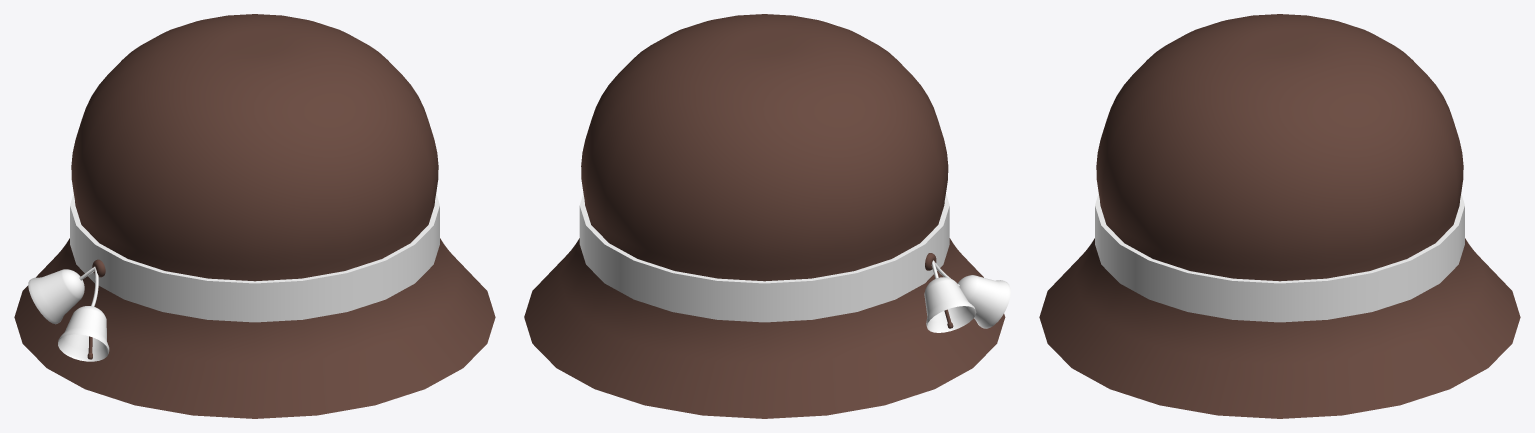
3 renders of one model, left to right at view 1: azimuth 30°, elevation 25°; view 2: azimuth 150°, elevation 25°; view 3: azimuth 270°, elevation 25°, orthographic.
Parts seen in each view (by area): view 1: group_1, group_0, Component_1 (×2); view 2: group_1, group_0, Component_1 (×2); view 3: group_1, group_0.
Boxes of the visible parts, x1,y1,x2,y2 form: group_1: (14, 14, 495, 418); group_0: (70, 194, 439, 322); Component_1 (×2): (28, 269, 109, 361); group_1: (524, 14, 1005, 418); group_0: (579, 193, 949, 322); Component_1 (×2): (924, 275, 1010, 332); group_1: (1039, 14, 1520, 418); group_0: (1095, 194, 1464, 322).
Bounding box in the file's own units: 15.6 × 15.19 × 9.56.
